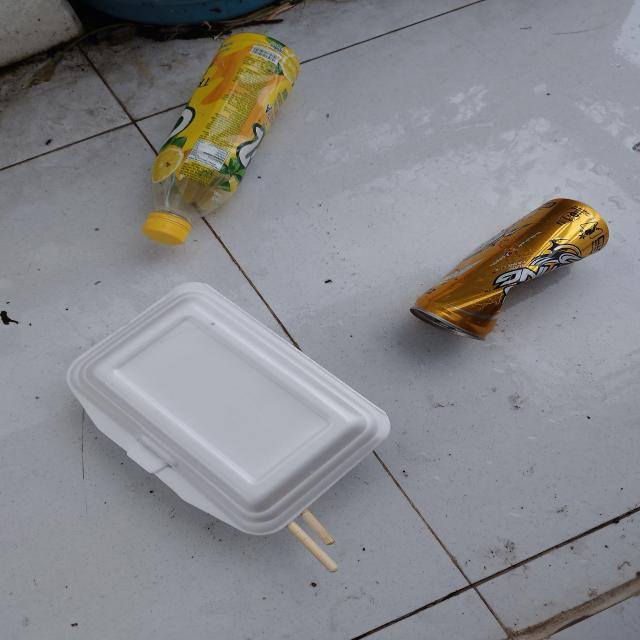bottle: (141, 32, 302, 246)
can: (408, 196, 612, 342)
foam box: (62, 280, 392, 537)
